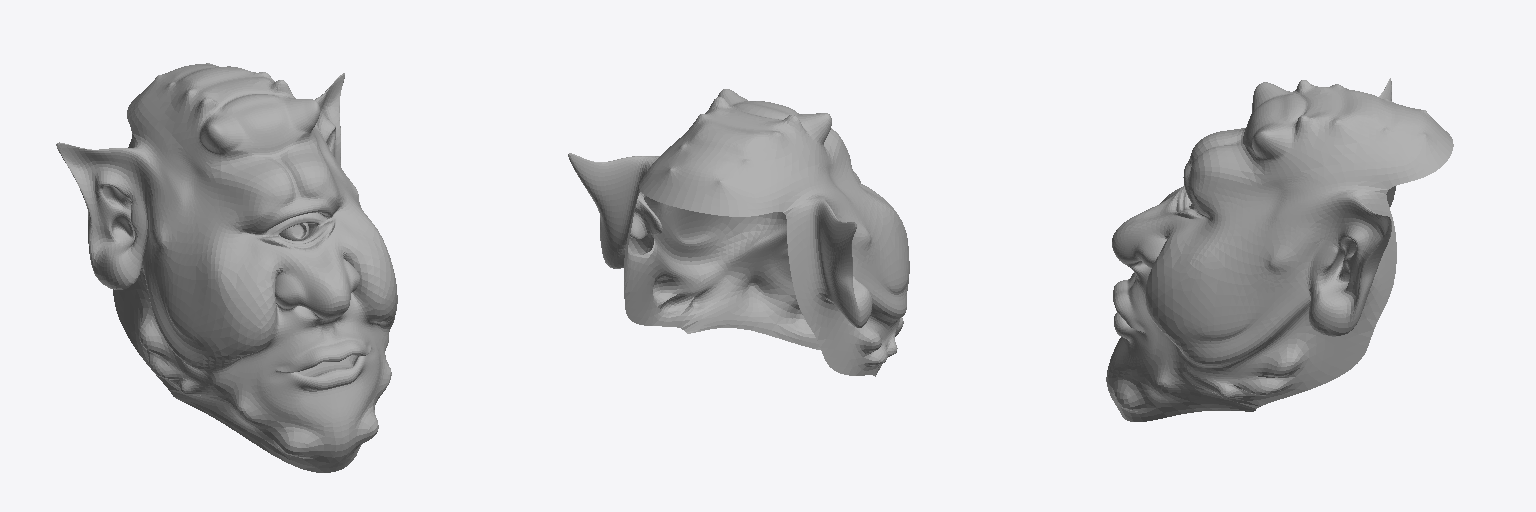
File: bs_ears.obj
3 views of the same model, side by side, from view 1: azimuth 30°, elevation 25°; view 2: azimuth 150°, elevation 25°; view 3: azimuth 270°, elevation 25° (orthographic).
Size of the model in its own units: 1.14 by 1.19 by 1.18.